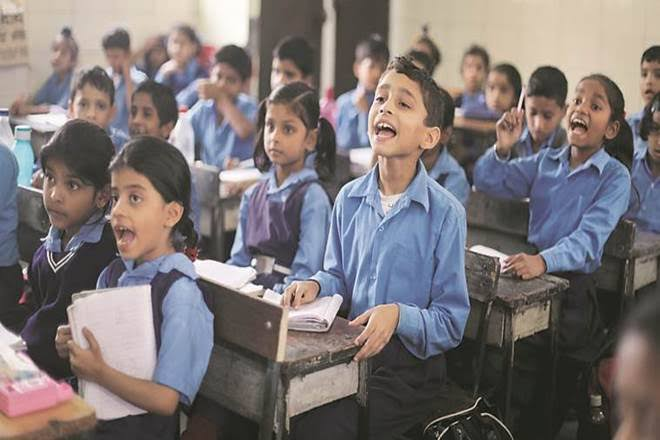student: (95, 144, 201, 259), (362, 59, 453, 158), (30, 123, 105, 225), (257, 81, 321, 168), (561, 75, 621, 151), (62, 64, 119, 139), (515, 68, 570, 142), (128, 76, 177, 143), (637, 44, 660, 103)
